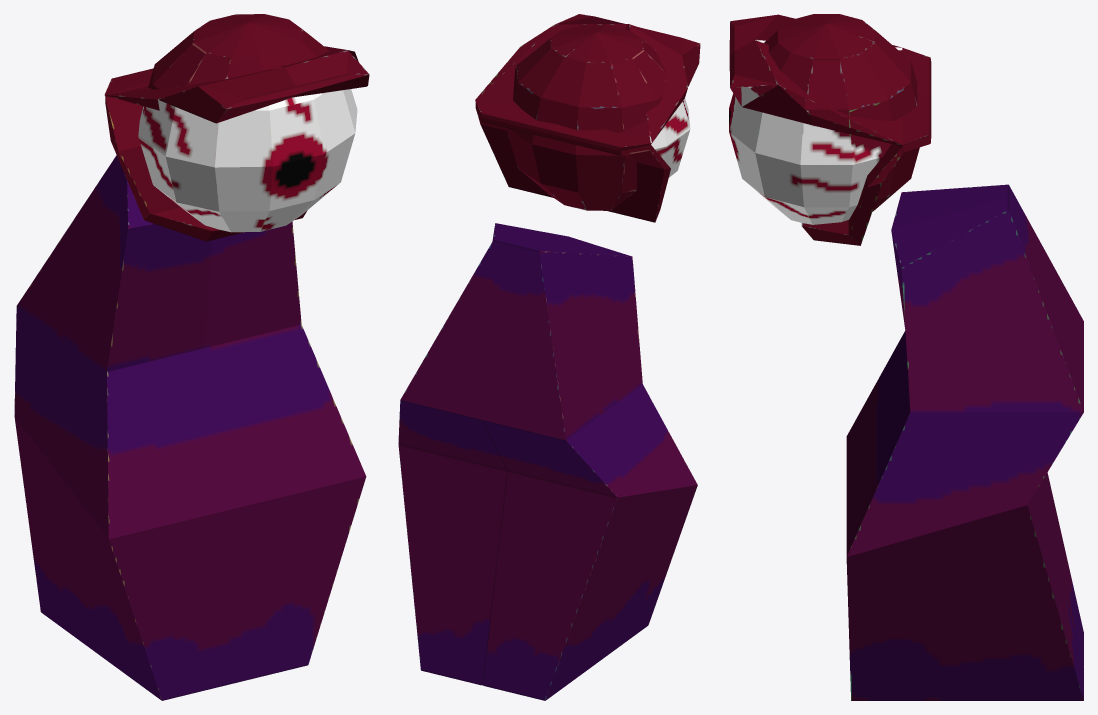
File: Wanderer.fbx
3 views of the same model, side by side, from view 1: azimuth 30°, elevation 25°; view 2: azimuth 150°, elevation 25°; view 3: azimuth 270°, elevation 25° (orthographic). The views are drawn at different scales.
Parts seen in each view (by area): view 1: Cube.001, sphere, Cube; view 2: Cube.001, sphere, Cube; view 3: Cube.001, sphere, Cube.
Part boxes in pixels (<box>): Cube.001: <box>14,155,366,700</box>; sphere: <box>138,14,357,232</box>; Cube: <box>104,46,369,241</box>; Cube.001: <box>398,223,697,700</box>; sphere: <box>506,25,690,210</box>; Cube: <box>475,14,700,222</box>; Cube.001: <box>846,184,1083,700</box>; sphere: <box>729,14,919,224</box>; Cube: <box>729,14,931,245</box>.
Size of the model in its own units: 201 by 500 by 250.
1 material, 1 textured.
